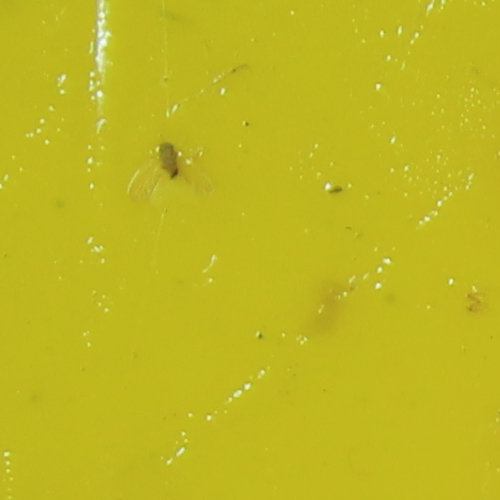psylla: (150, 141, 181, 179)
